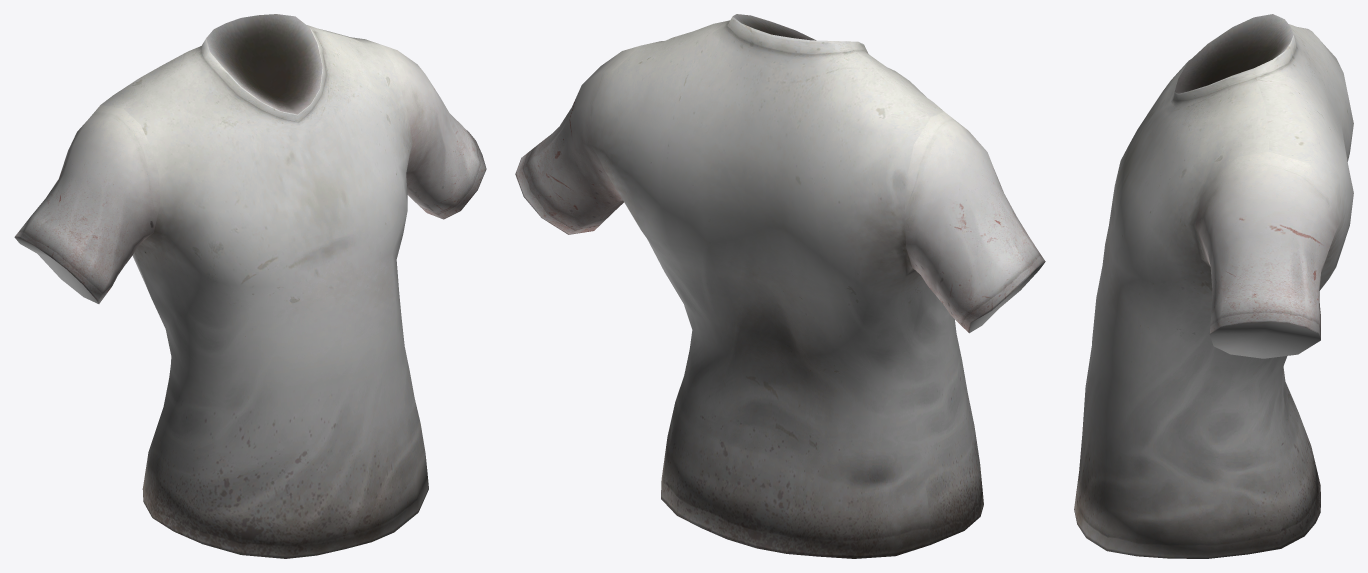
Rendered from SurvivorMale_Chest_Shirt_GamerJersey_LOD0.glb.
3 views of the same model, side by side, from view 1: azimuth 30°, elevation 25°; view 2: azimuth 150°, elevation 25°; view 3: azimuth 270°, elevation 25° (orthographic). The views are drawn at different scales.
Visible parts, largest first — view 1: Hoodie; view 2: Hoodie; view 3: Hoodie.
Part boxes in pixels (bbox=[...]): Hoodie: bbox=[14, 14, 486, 558]; Hoodie: bbox=[515, 14, 1045, 558]; Hoodie: bbox=[1074, 14, 1353, 558].
Bounding box in the file's own units: 0.6856 × 0.6651 × 0.3544.
Materials: 1 (1 with a texture image).
